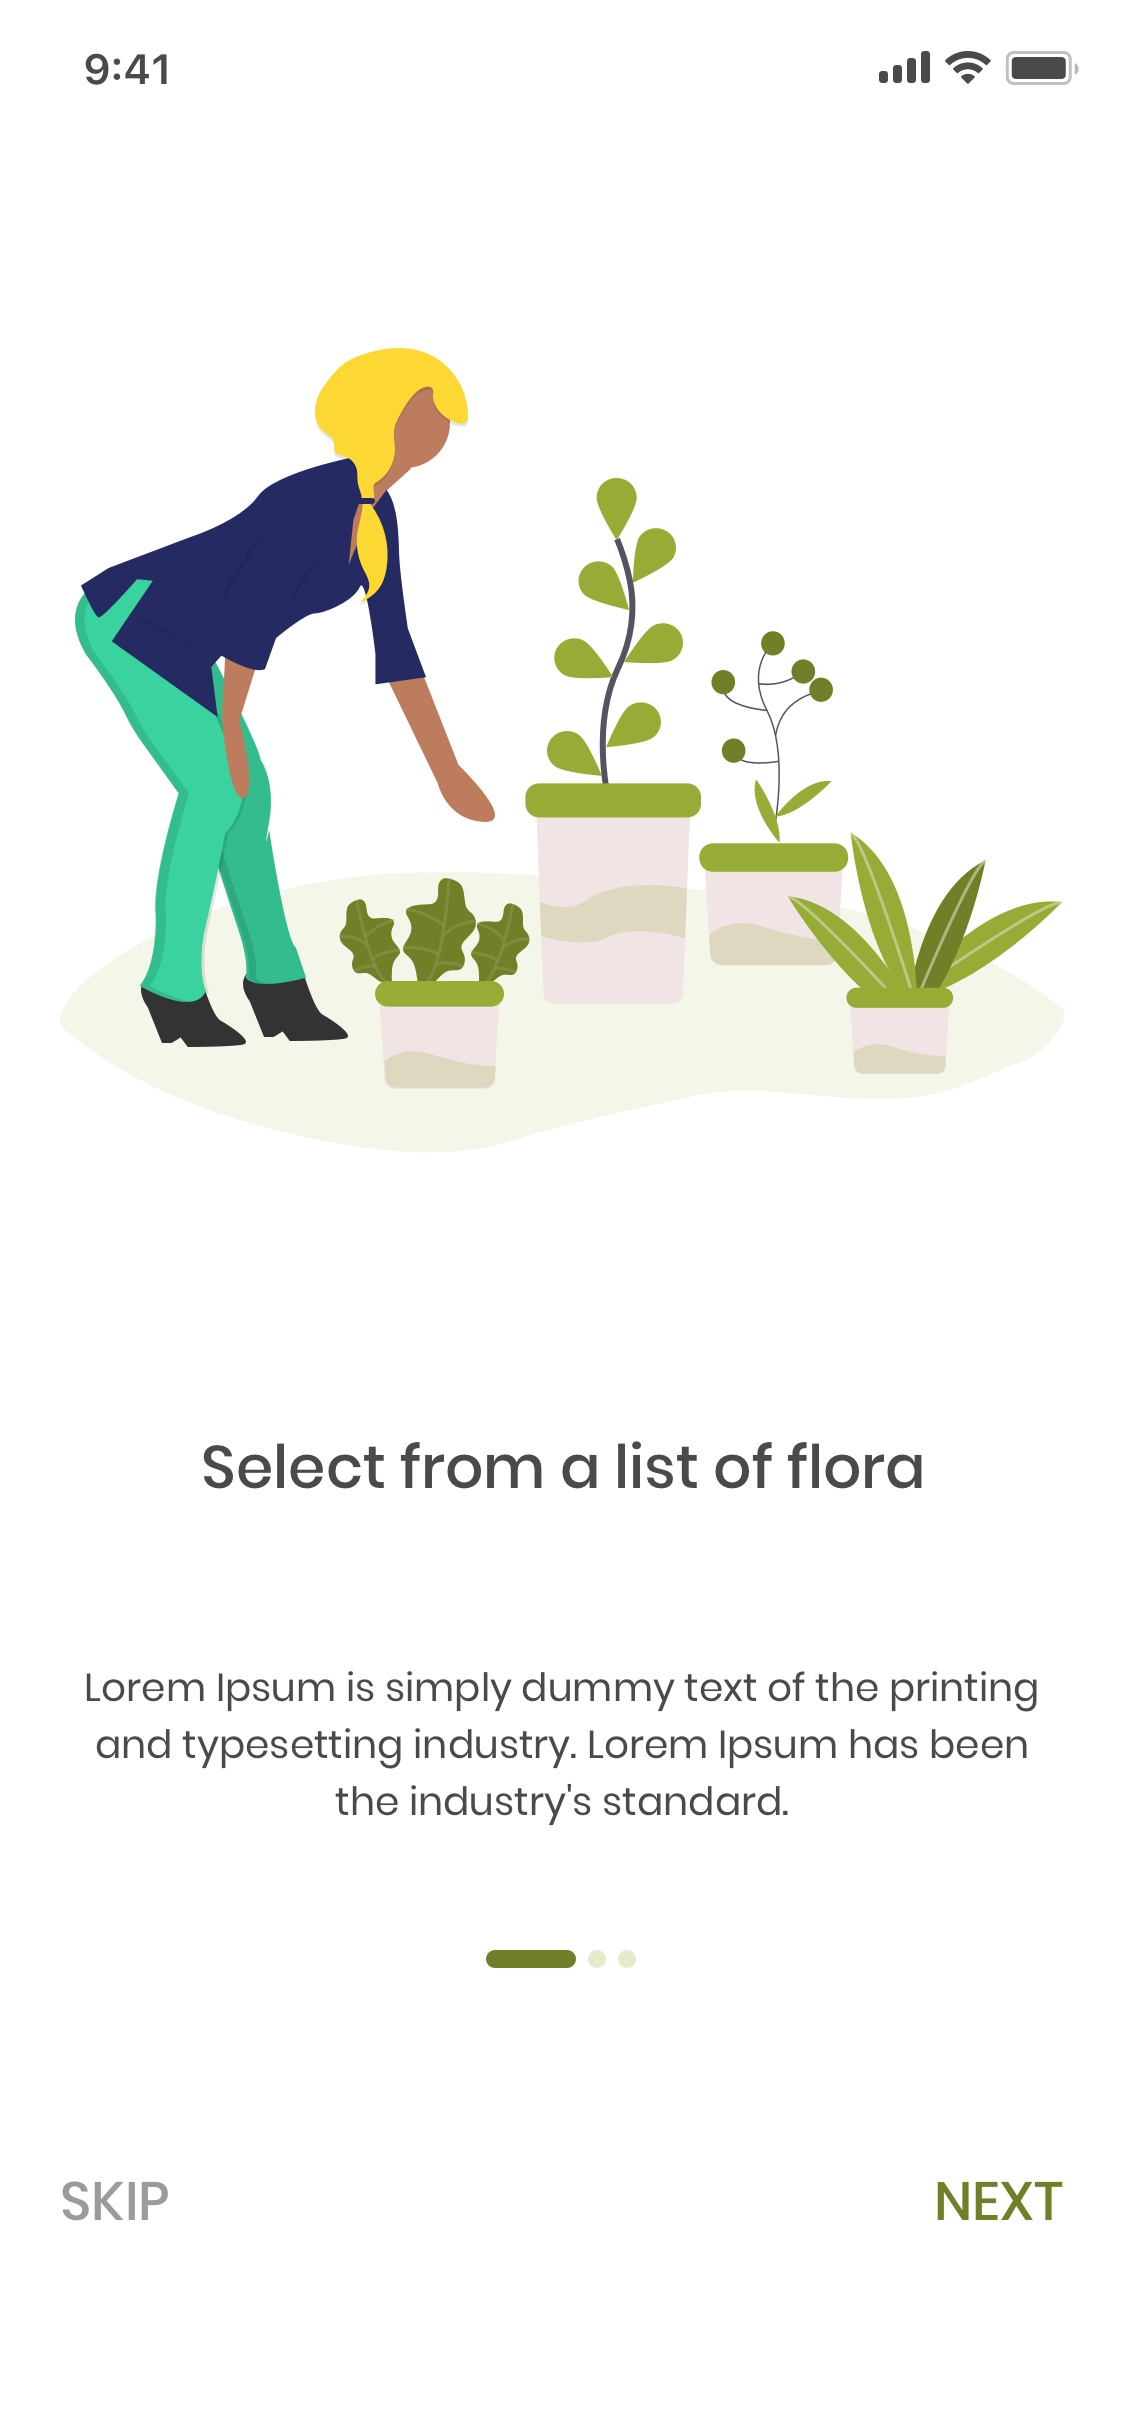Image: (61, 346, 1066, 1153)
PageIndicator: (486, 1950, 639, 1968)
Text: (85, 1670, 1038, 1825), (204, 1442, 923, 1490), (935, 2180, 1064, 2222), (64, 2180, 169, 2222)
UpperTaskBar: (85, 50, 1080, 87)
